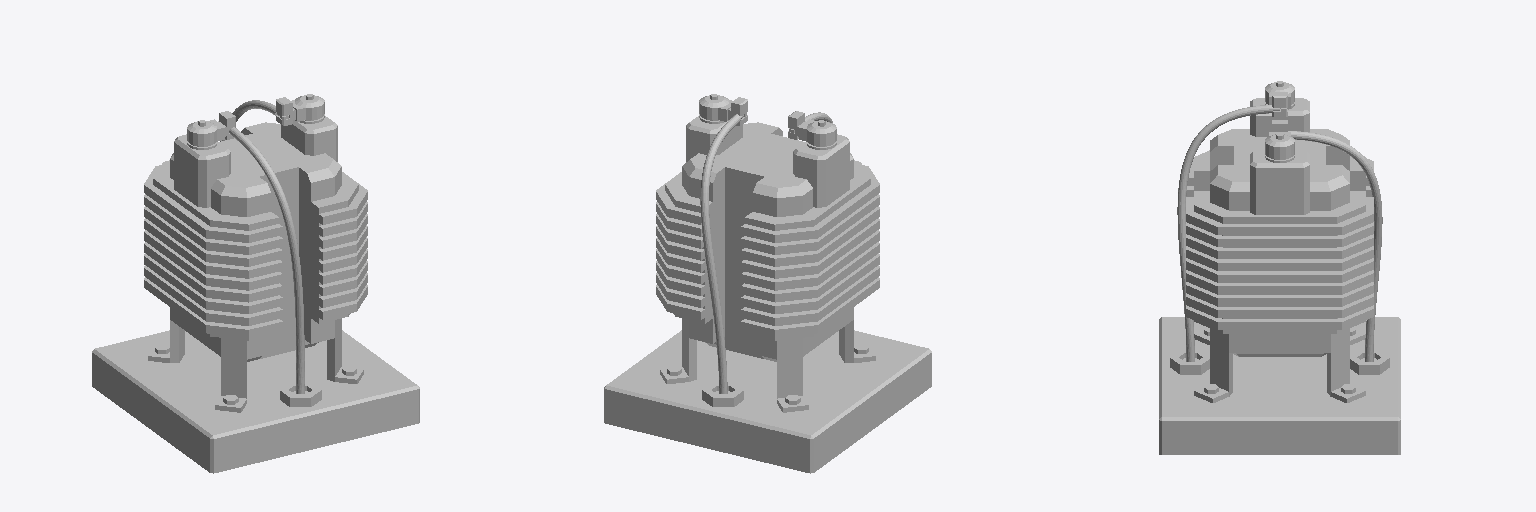
Rendered from random_electrical_device_2.obj.
The picture shows the model from 3 angles: view 1: azimuth 30°, elevation 25°; view 2: azimuth 150°, elevation 25°; view 3: azimuth 270°, elevation 25°; orthographic projection.
Parts seen in each view (by area): view 1: cable.001_cable.002; view 2: cable.001_cable.002; view 3: cable.001_cable.002.
Boxes of the visible parts, x1,y1,x2,y2 form: cable.001_cable.002: [92, 94, 419, 473]; cable.001_cable.002: [604, 94, 931, 473]; cable.001_cable.002: [1159, 81, 1400, 454].
Bounding box in the file's own units: 4.24 × 5.71 × 4.24.